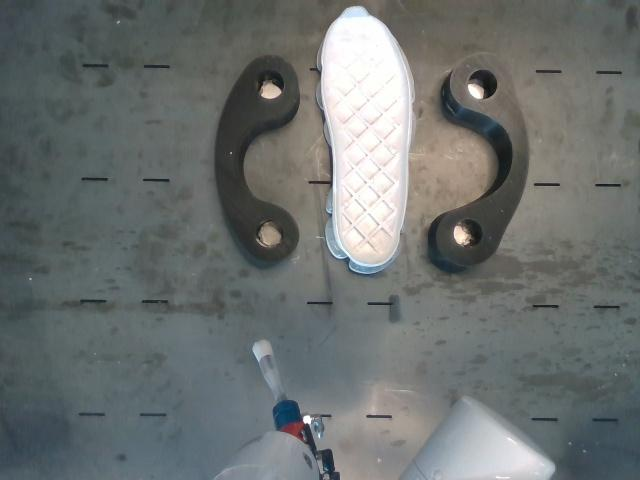shoes: (323, 7, 410, 264)
